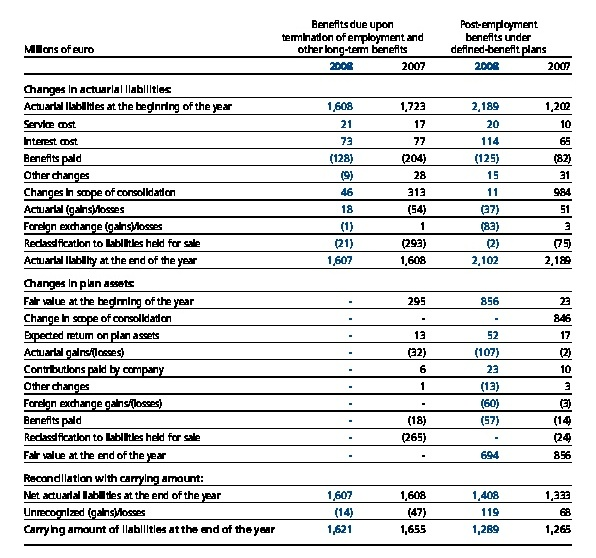table: (0, 0, 596, 558)
